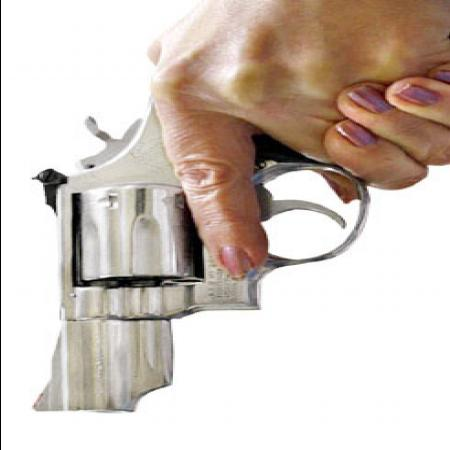Pistol: (28, 82, 366, 414)
